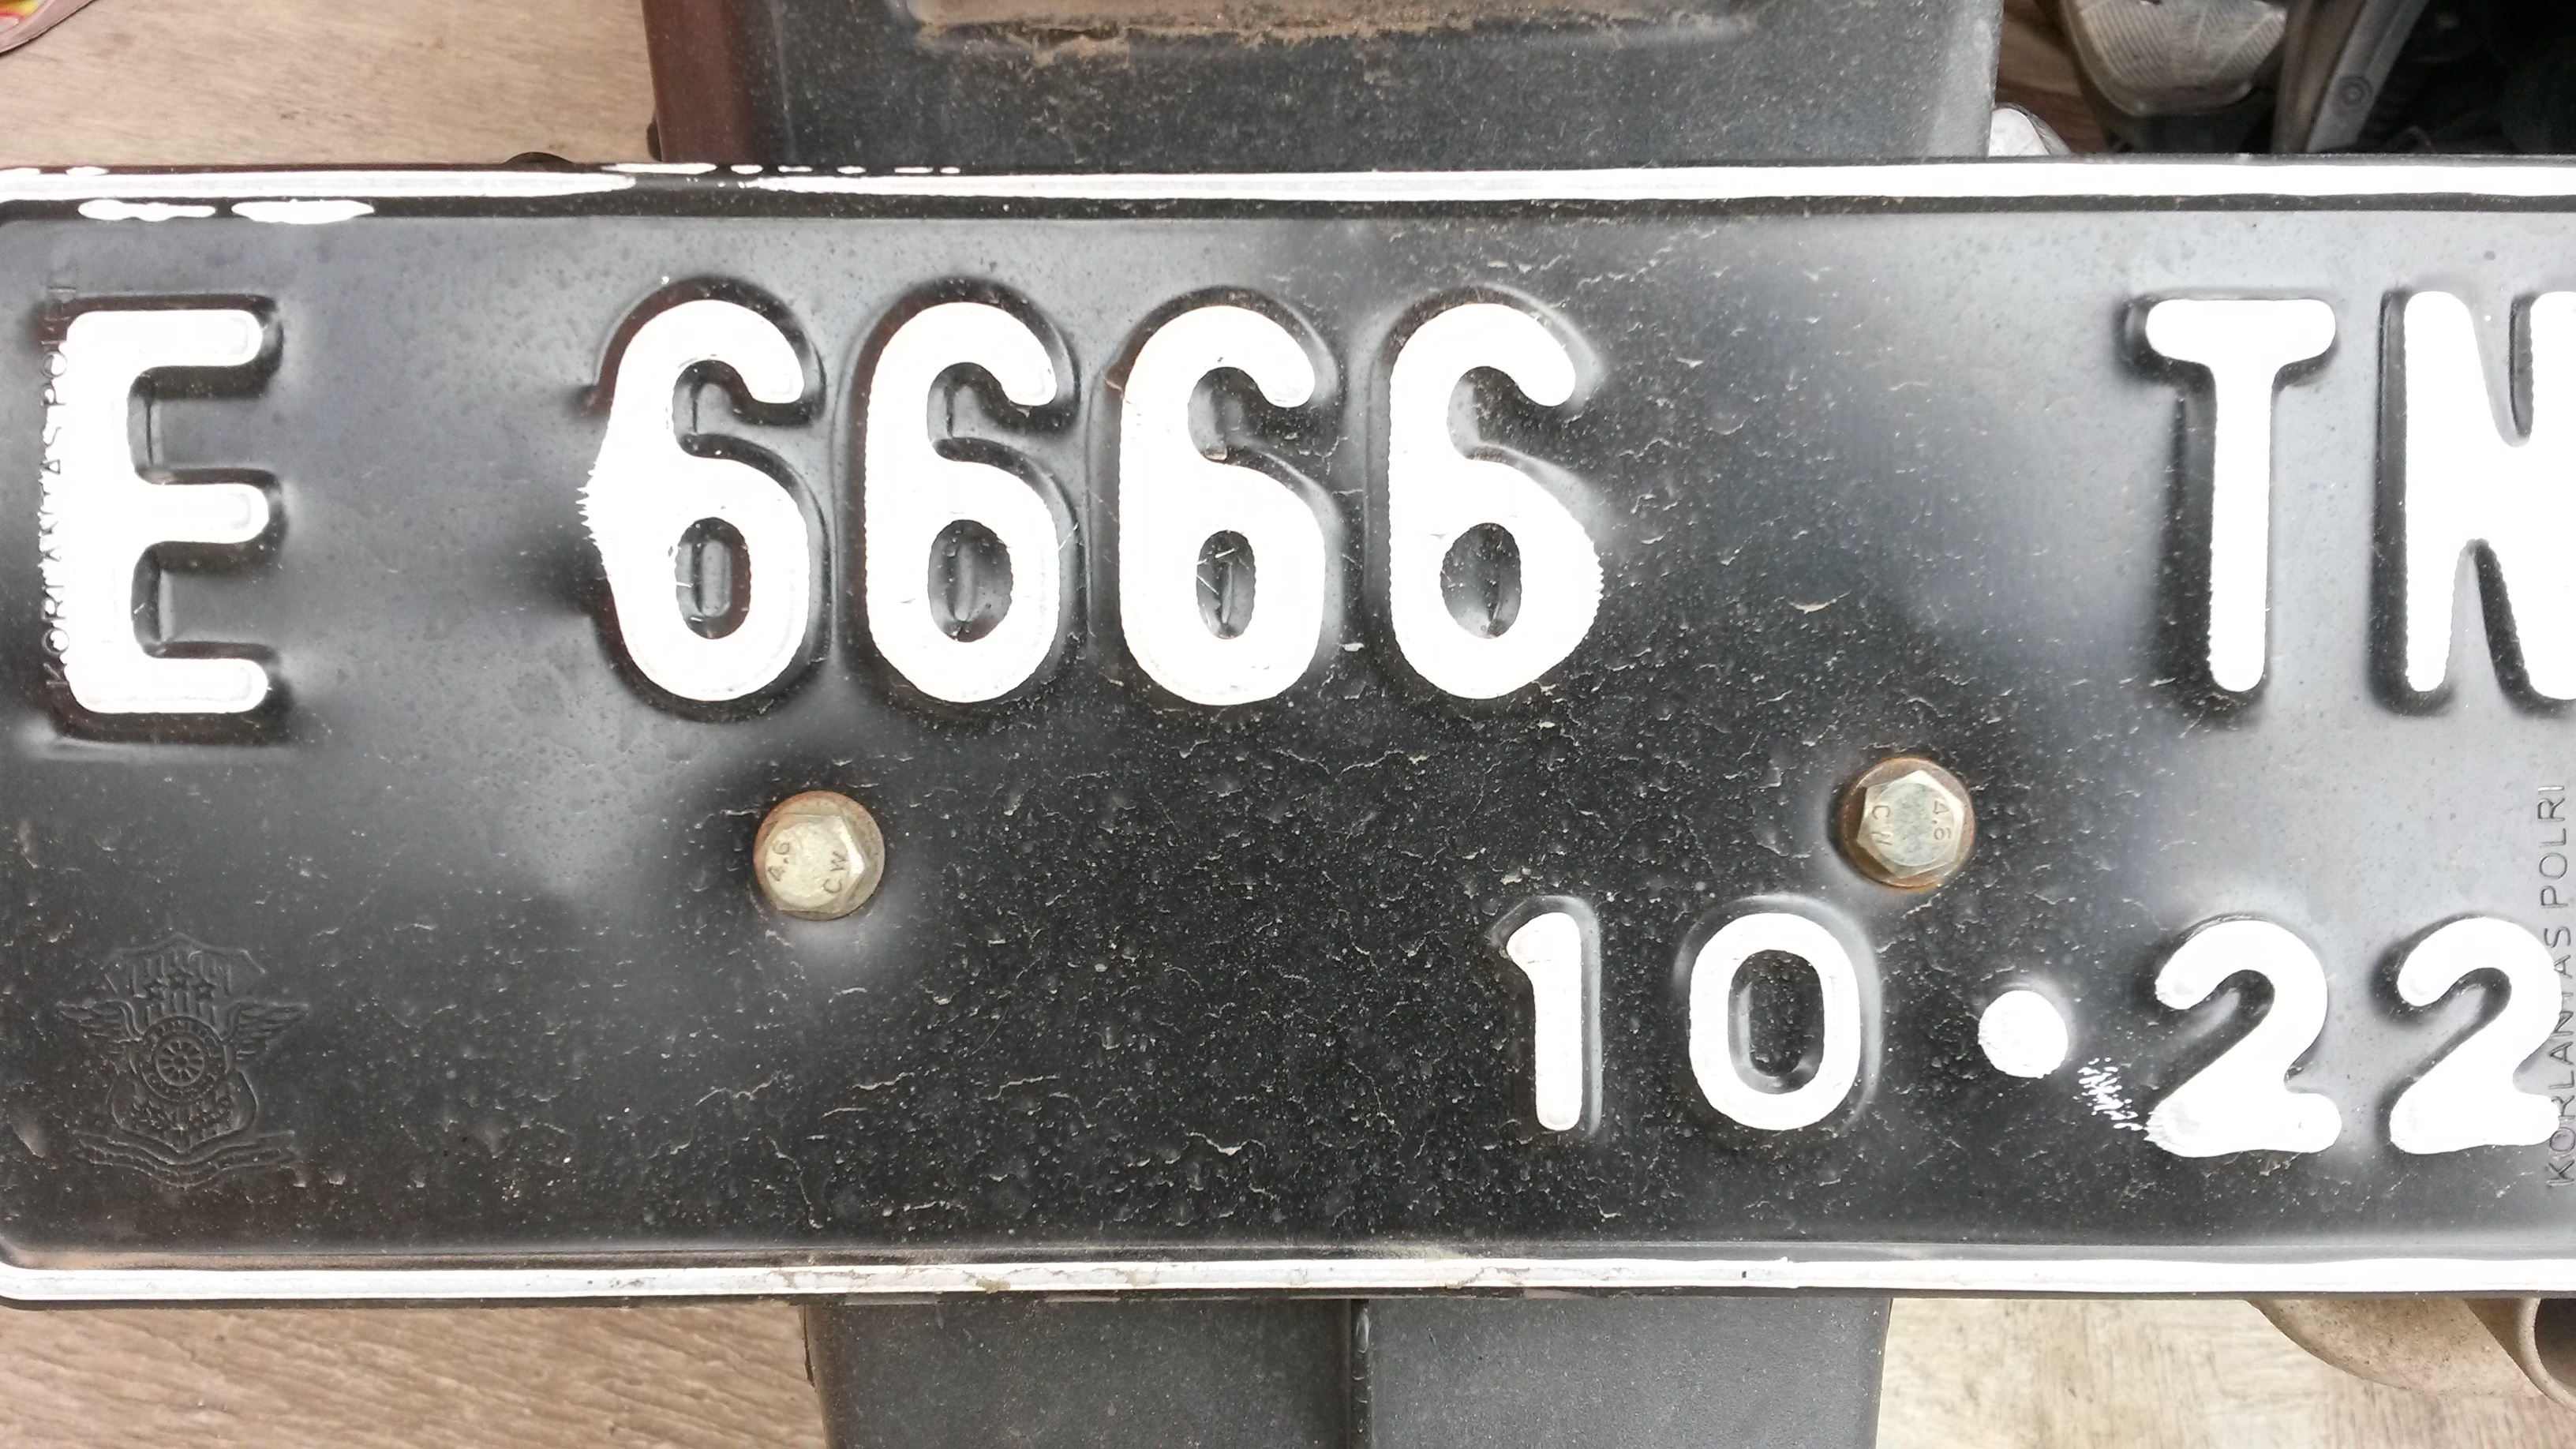plate: (1, 168, 2576, 1297)
